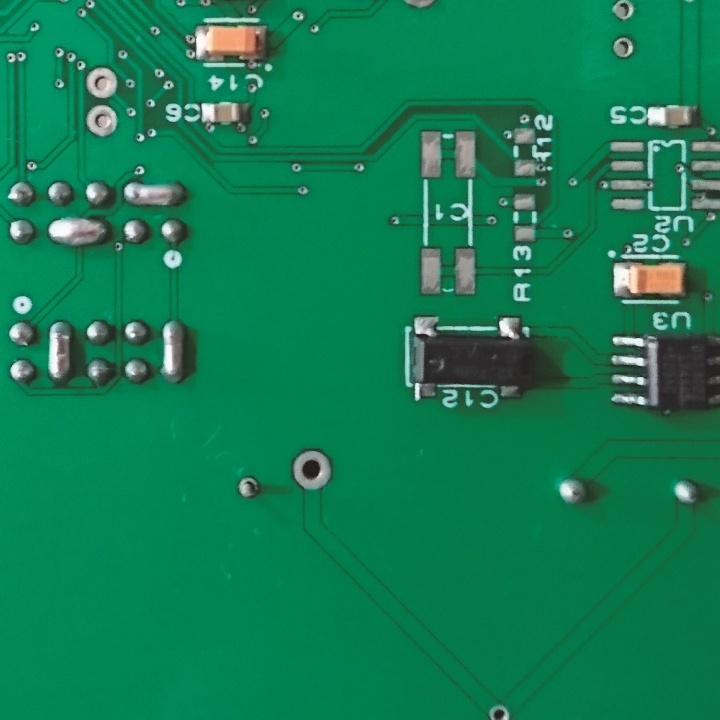F: (290, 447, 333, 493), (83, 103, 121, 143), (84, 66, 120, 100), (233, 475, 264, 501), (610, 32, 637, 60), (607, 1, 637, 23), (484, 700, 514, 720)
P: (44, 217, 114, 249), (46, 318, 75, 387), (121, 180, 188, 209), (161, 316, 188, 385)
